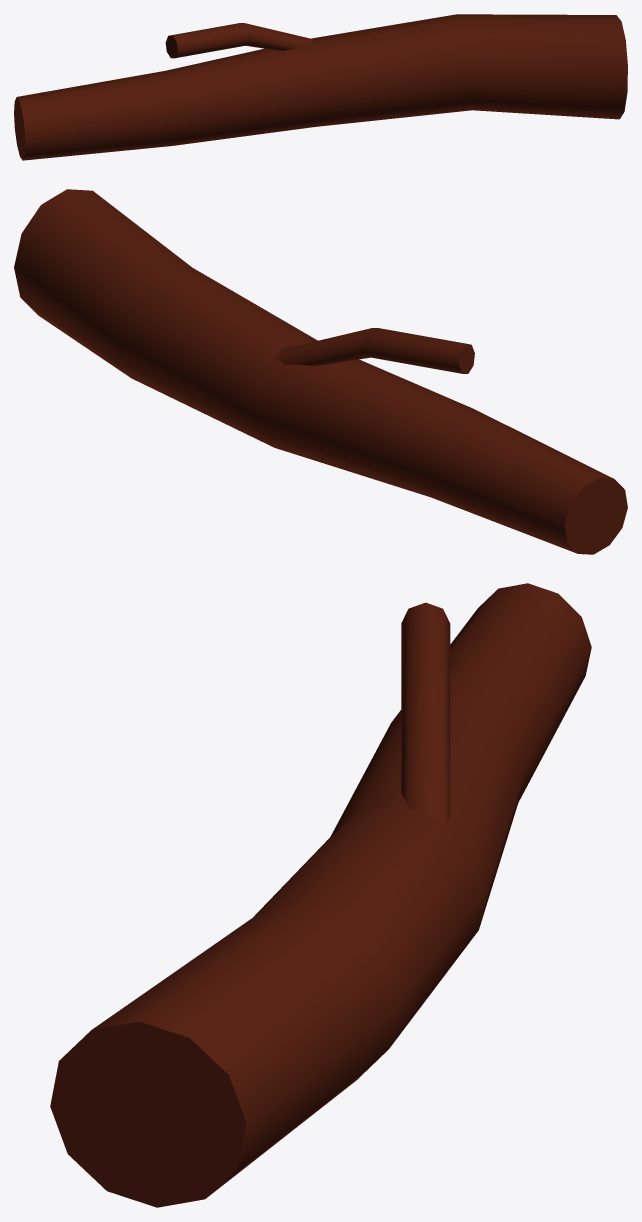
3 views of the same model, one above another, from view 1: azimuth 30°, elevation 25°; view 2: azimuth 150°, elevation 25°; view 3: azimuth 270°, elevation 25° (orthographic). The views are drawn at different scales.
Parts seen in each view (by area): view 1: root_06; view 2: root_06; view 3: root_06.
Part boxes in pixels (<box>): root_06: <box>14,14,627,160</box>; root_06: <box>14,189,627,554</box>; root_06: <box>50,583,591,1207</box>.
Bounding box in the file's own units: 128 × 27.81 × 57.01.
